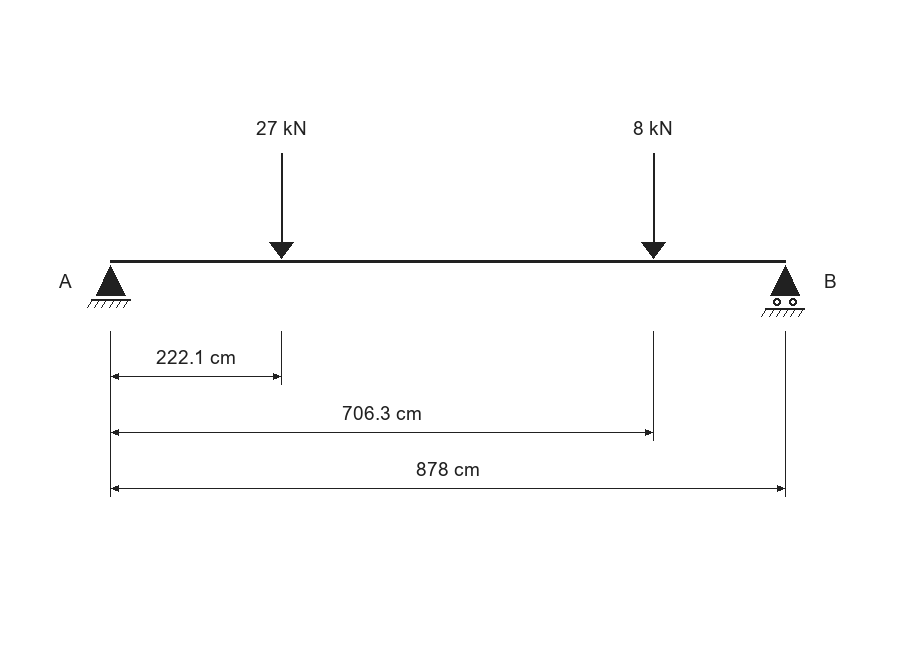pin_support: (87, 265, 131, 308)
point_load: (269, 153, 294, 259), (641, 153, 666, 259)
roller_support: (761, 265, 805, 317)
